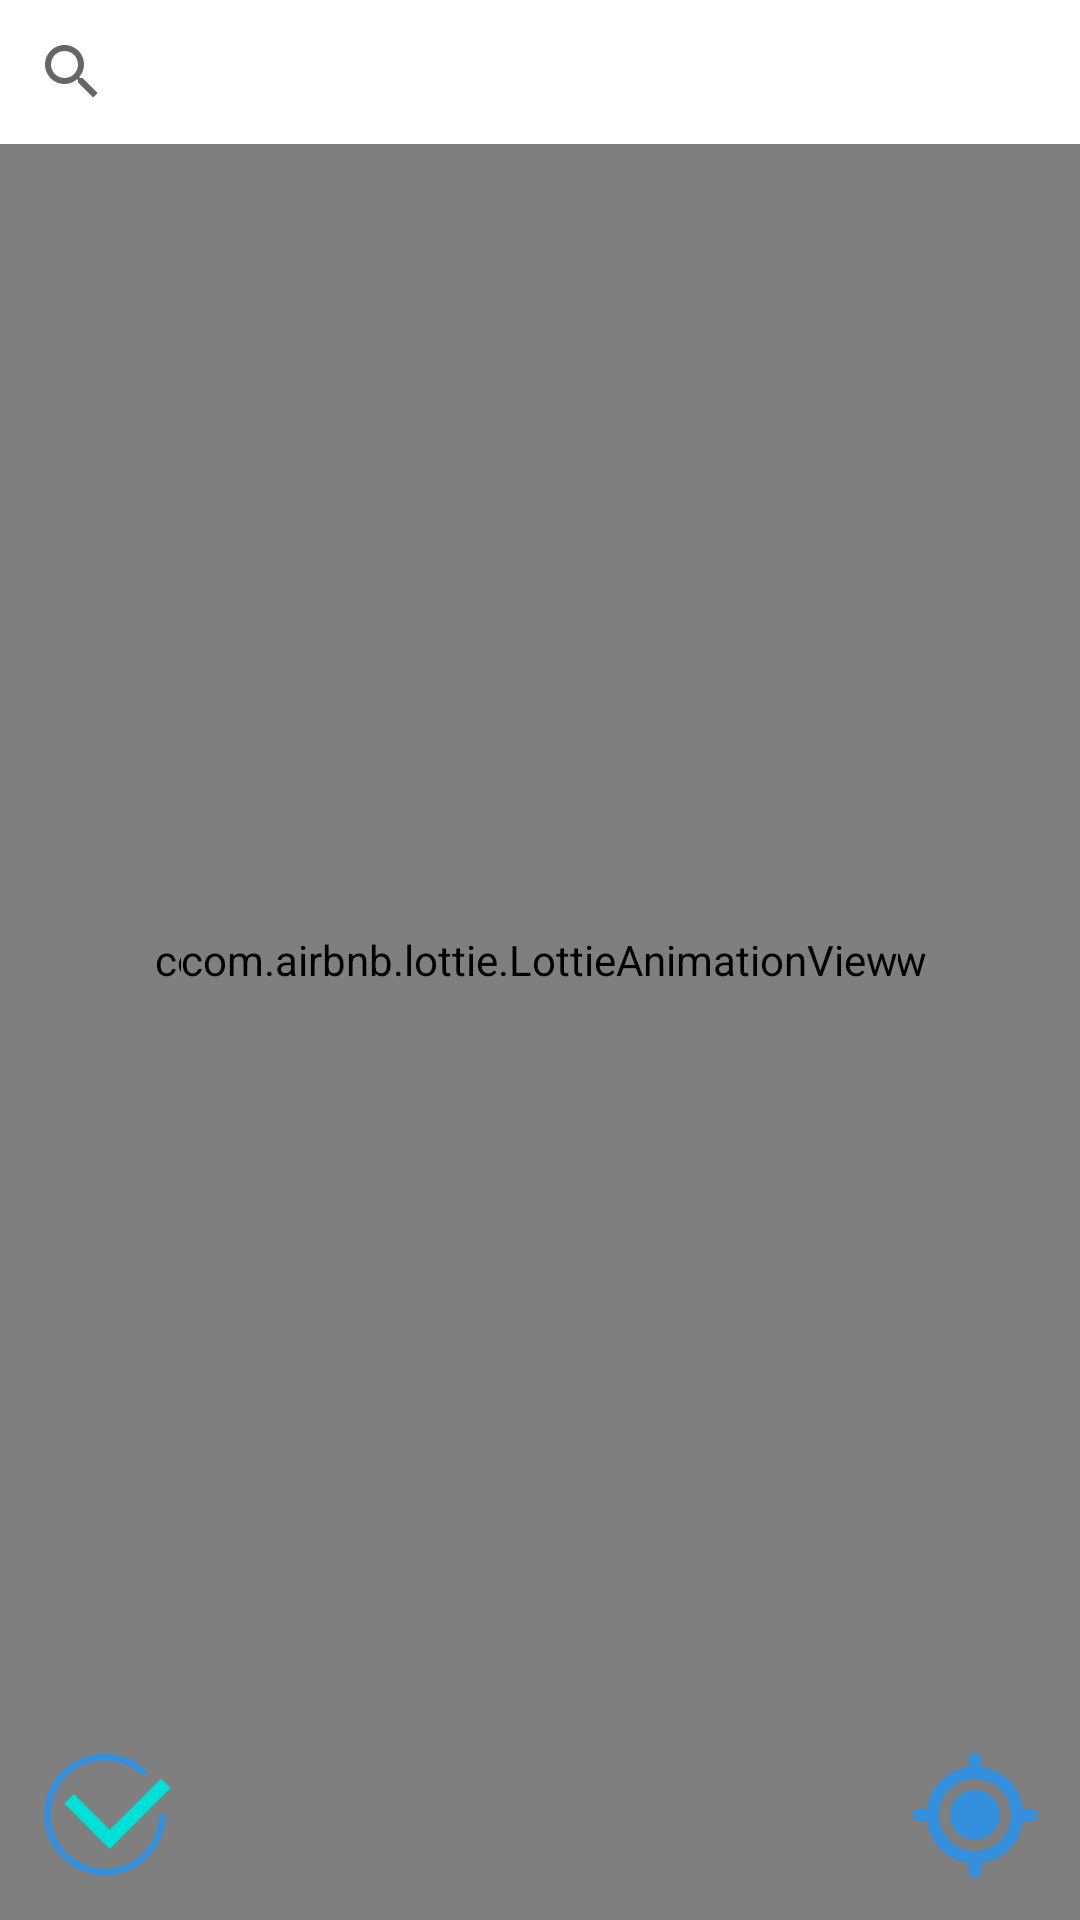

Point at icon controls on the screen. Image size 1080×1920, points as (x,y).
confirm: (107,1815)
location: (975,1815)
